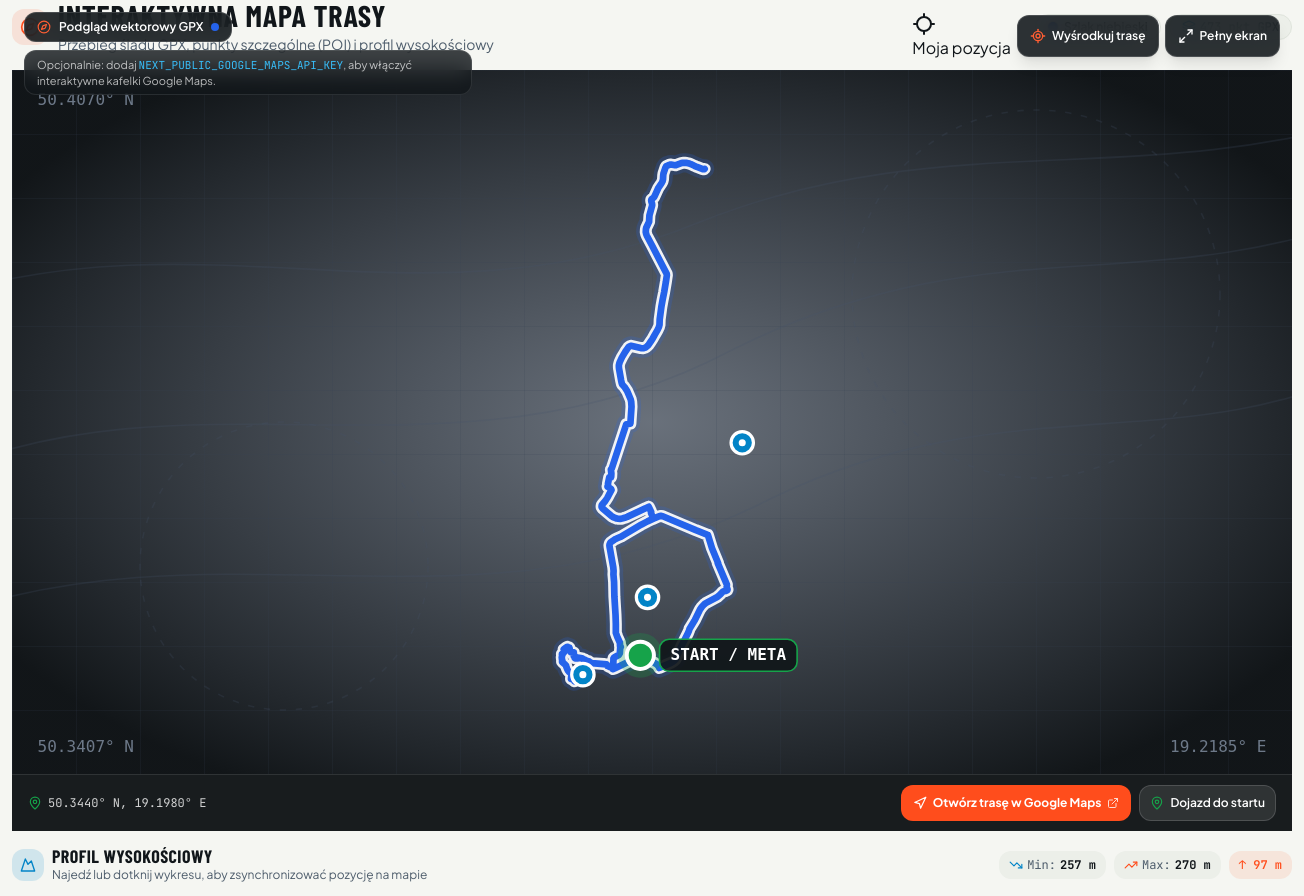
Test: Map utils, Google Maps route URLs & TrailGoogleMap (Stage R2) › TrailMapSection recovers cleanly when watchPosition throws synchronously
The image size is (1304, 896).
Click the button "Moja pozycja" at (962, 36), box [912,12,1011,60]
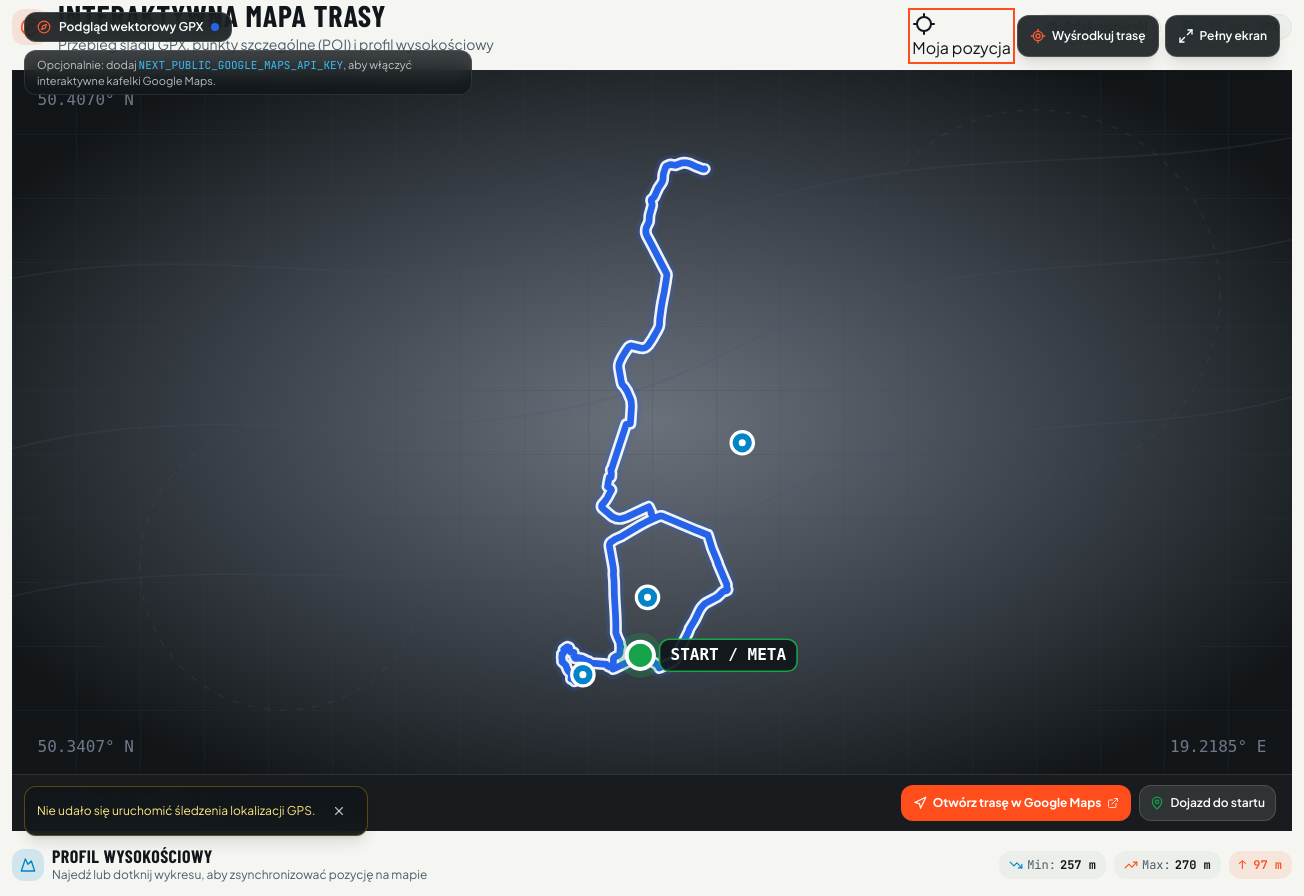
Result: the message with test id "gps-error-banner" shows "Nie udało się uruchomić śledzenia lokalizacji GPS" at [37,803,315,818]
